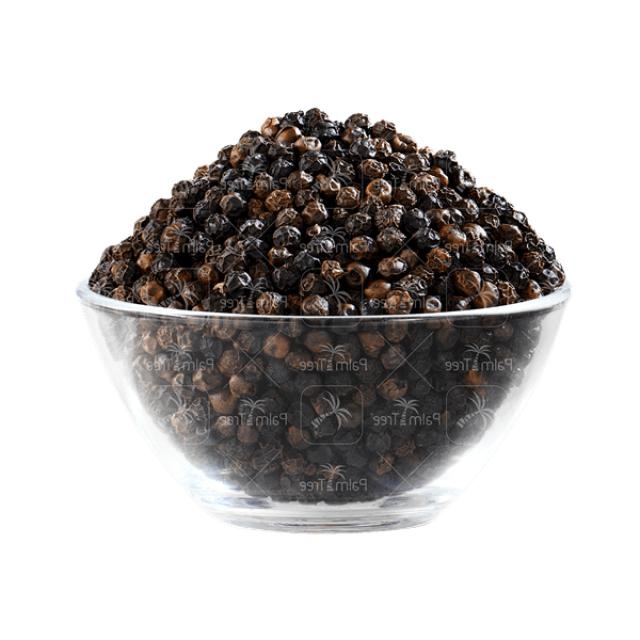Black pepper: (80, 103, 565, 313)
